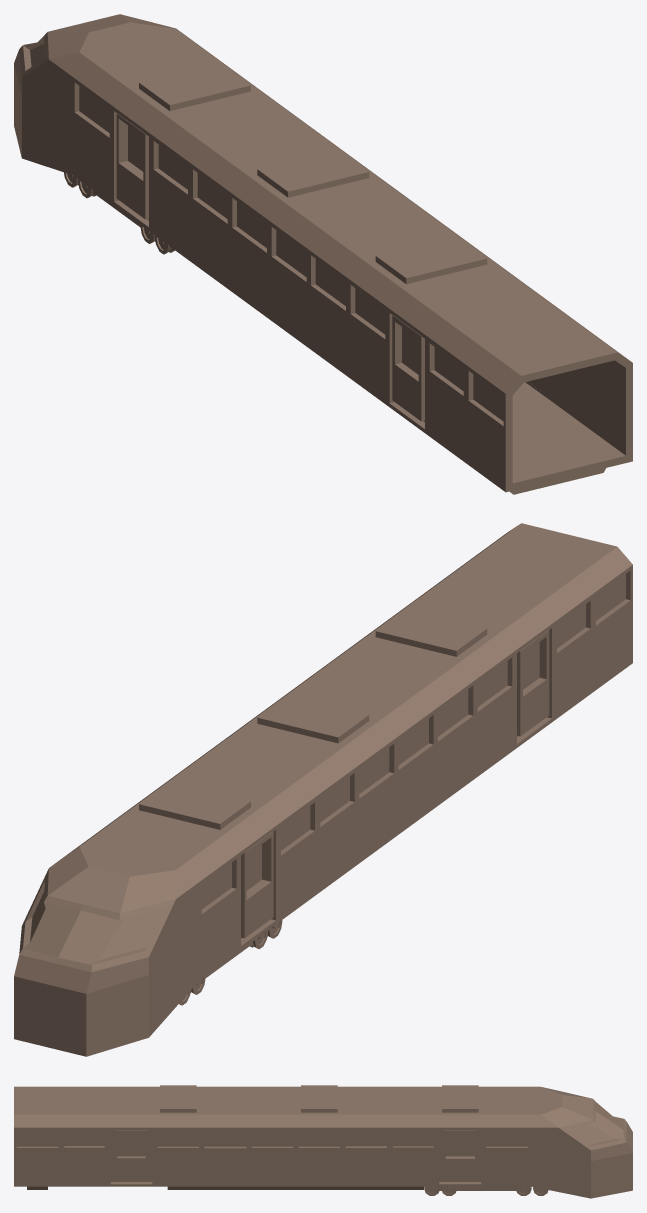
Rendered from train.fbx.
3 views of the same model, one above another, from view 1: azimuth 30°, elevation 25°; view 2: azimuth 150°, elevation 25°; view 3: azimuth 270°, elevation 25° (orthographic). The views are drawn at different scales.
Parts seen in each view (by area): view 1: train; view 2: train; view 3: train.
Part boxes in pixels (x1,y1,x2,y2): train: [14, 14, 632, 494]; train: [14, 523, 632, 1056]; train: [14, 1085, 632, 1198].
Size of the model in its own units: 209 by 217 by 1471.
